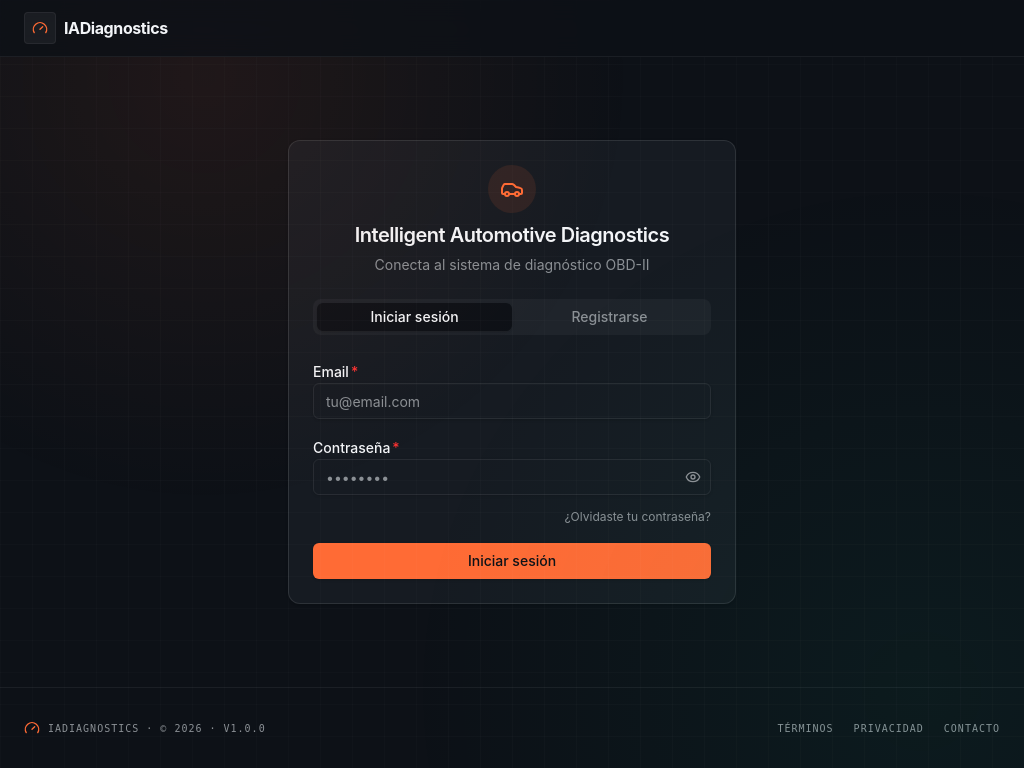
Test case: AuthPage — segundo factor › pide el codigo cuando el login devuelve un reto
Type "taller@example.com" into the field with id "login-email".
click(512, 401); type("taller@example.com")  # box [313,383,711,419]
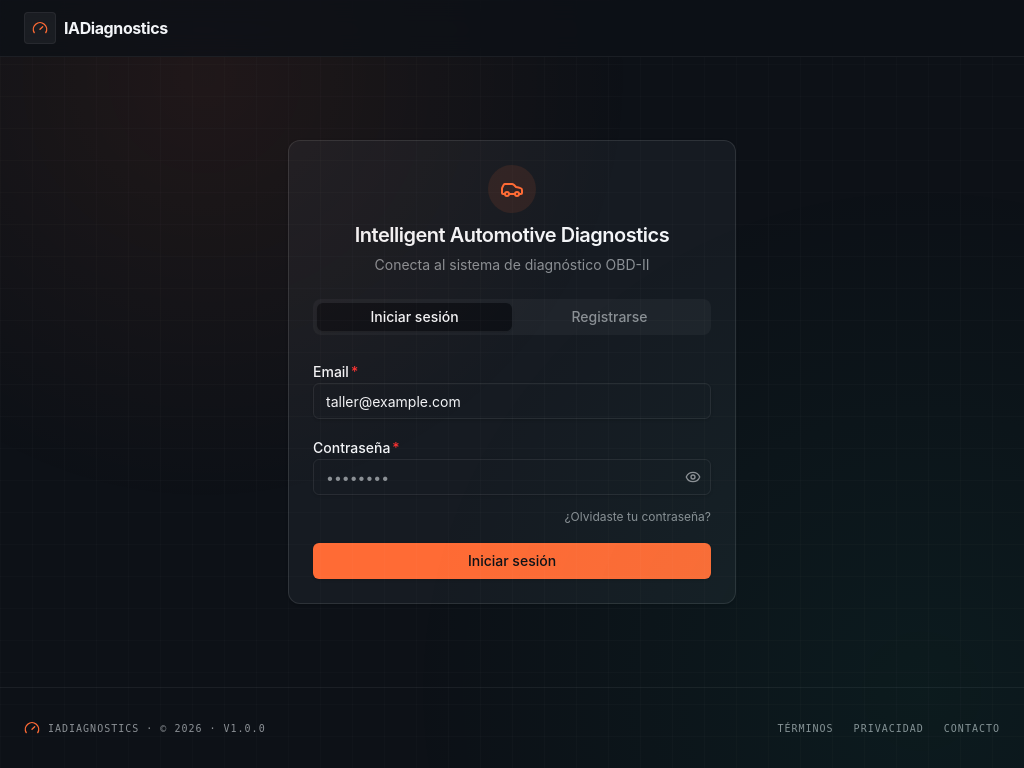
Type "Diagnostico2026!" into the password field with id "login-password".
click(512, 477); type("Diagnostico2026!")  # box [313,459,711,495]
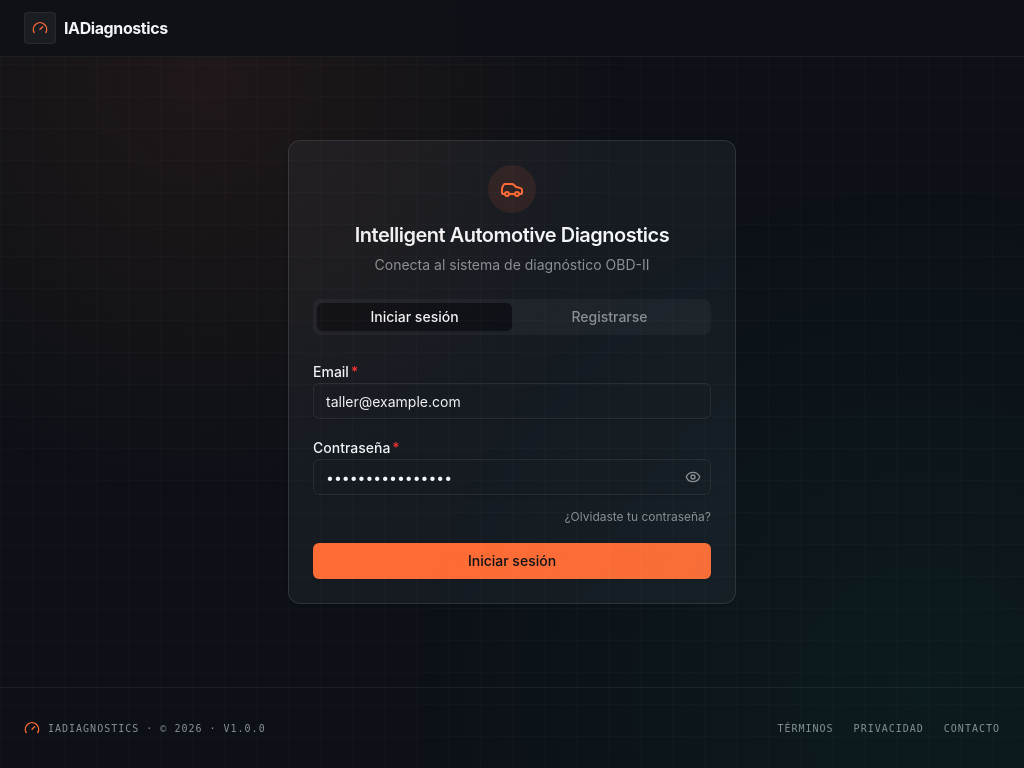
Click the button "Iniciar sesión".
click(512, 561)  # box [313,543,711,579]
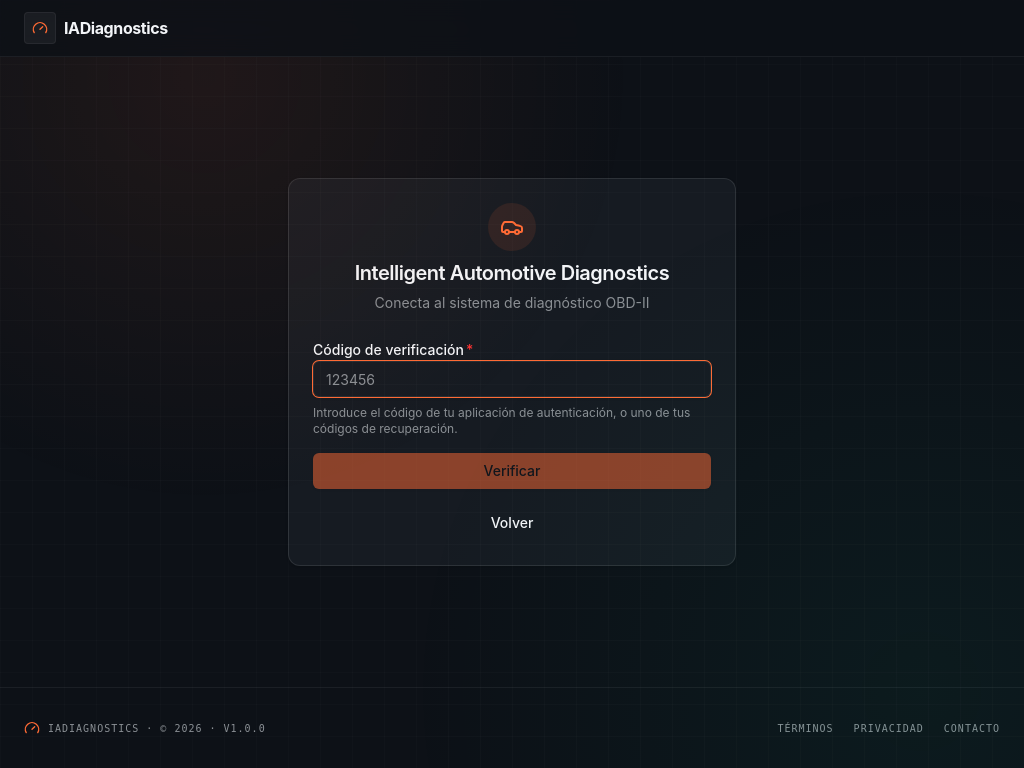
Expected: the field labelled "Código de verificación*" is shown, [313,361,711,397]
